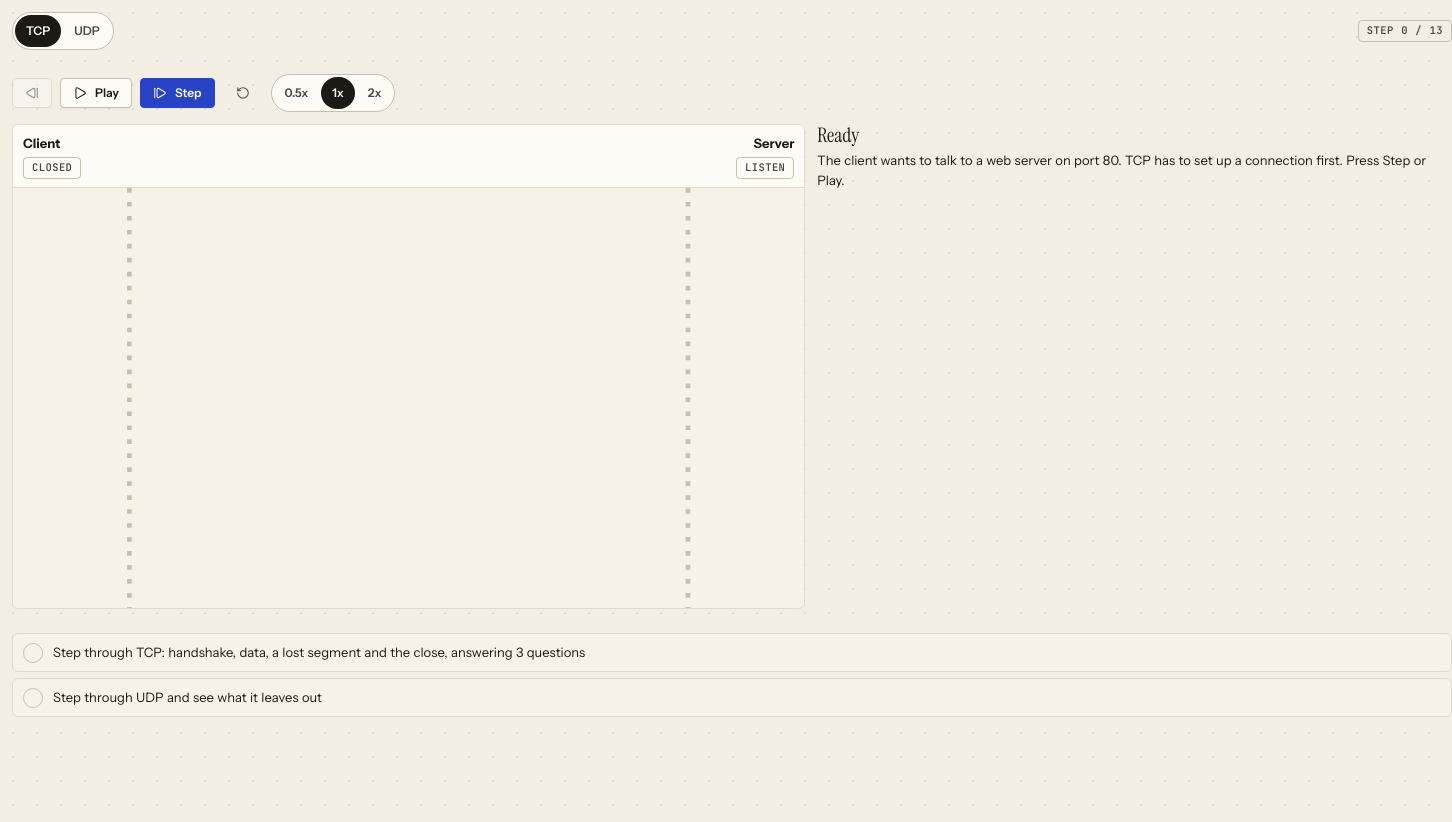
Test: network widgets render › tcp-handshake: steps and asks a question
What coordinates should you click on to do the following:
click the button "Step"
I would click on:
 (177, 93)
Its box is [140,78,214,108].
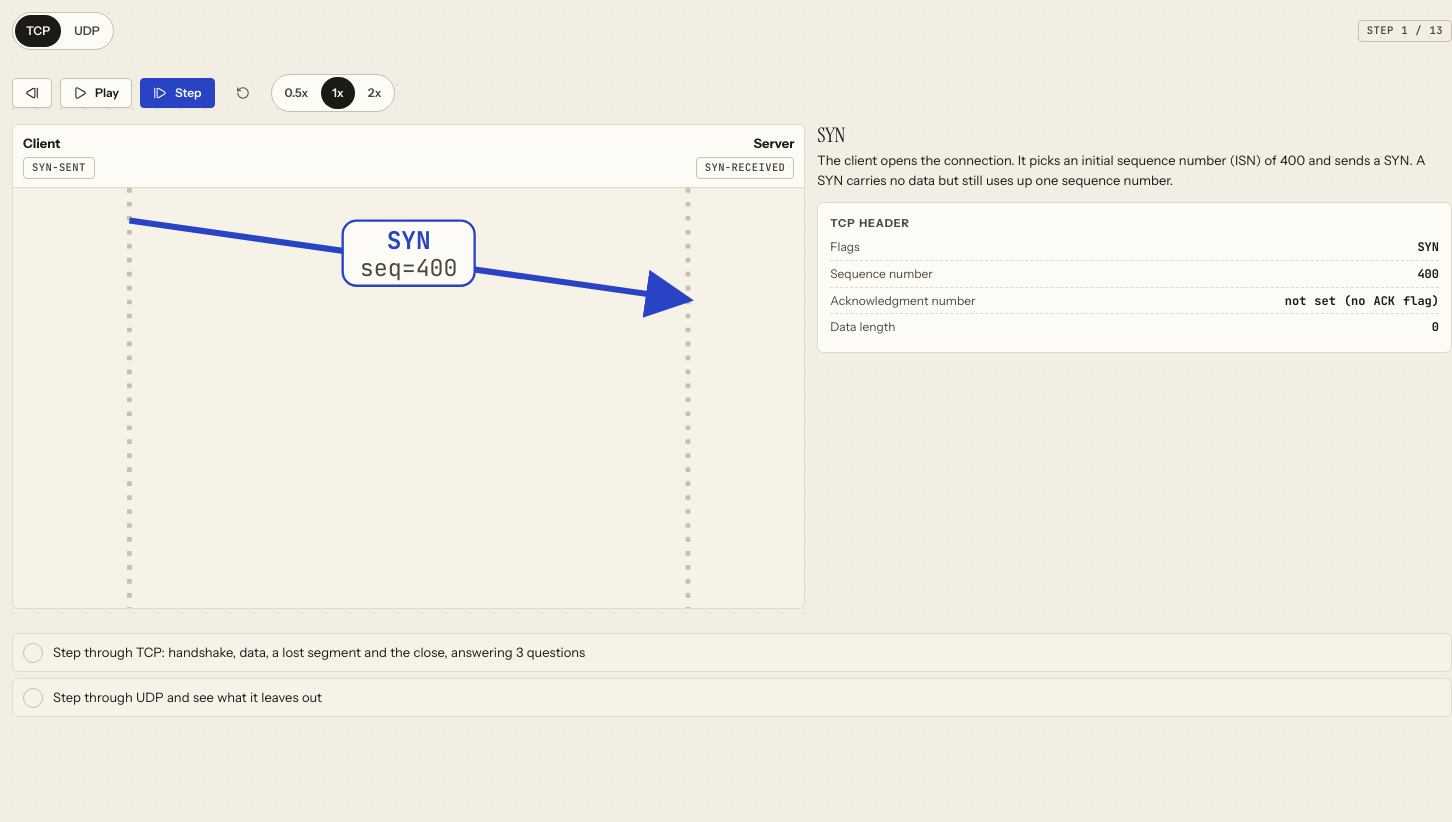
What coordinates should you click on to do the following:
click the button "Step"
I would click on:
 (177, 93)
Its box is [140,78,214,108].
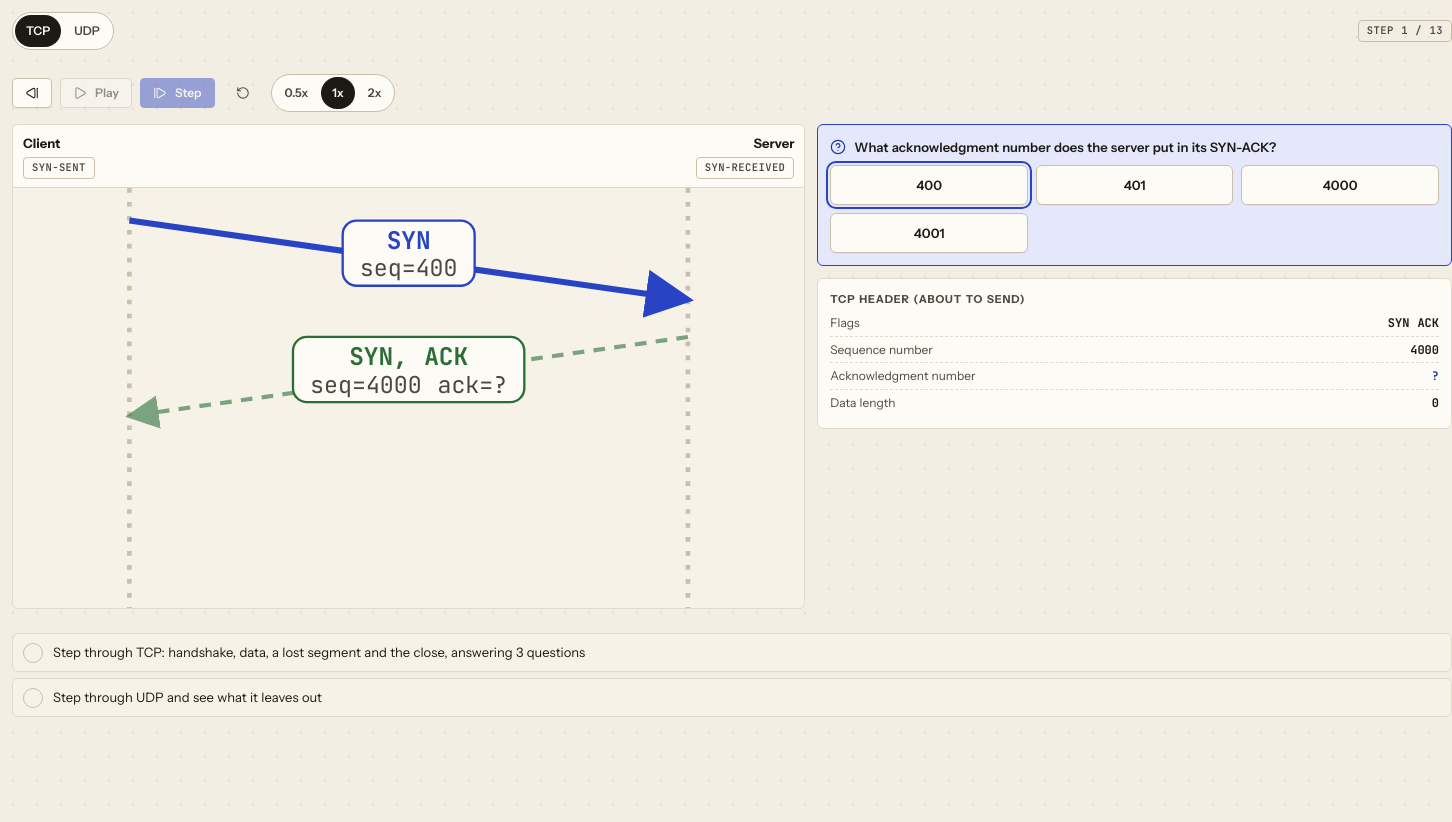
Result: the element with class "tcp-question" is shown at [817,124,1451,266]
